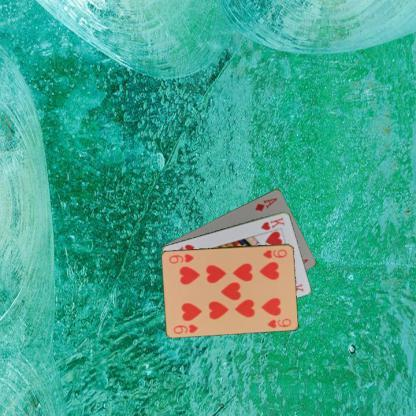9h: (170, 321, 199, 335), (260, 247, 288, 259)
Ad: (252, 194, 278, 212)
Kh: (258, 214, 286, 231)
